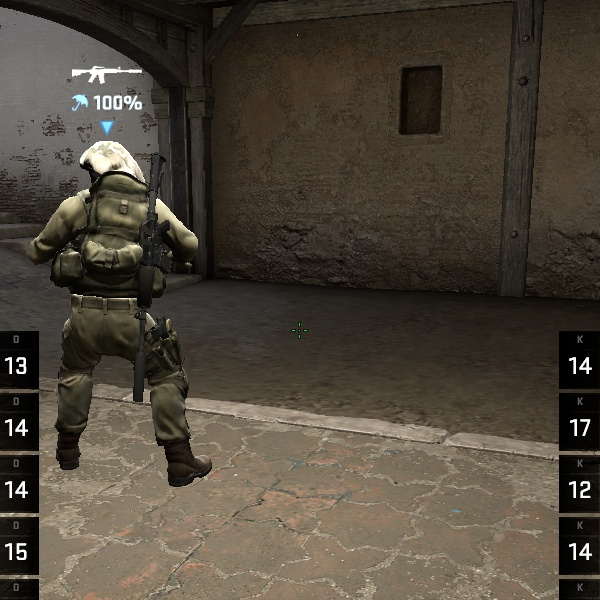ct_body: (29, 129, 228, 491)
ct_head: (75, 139, 150, 211)
